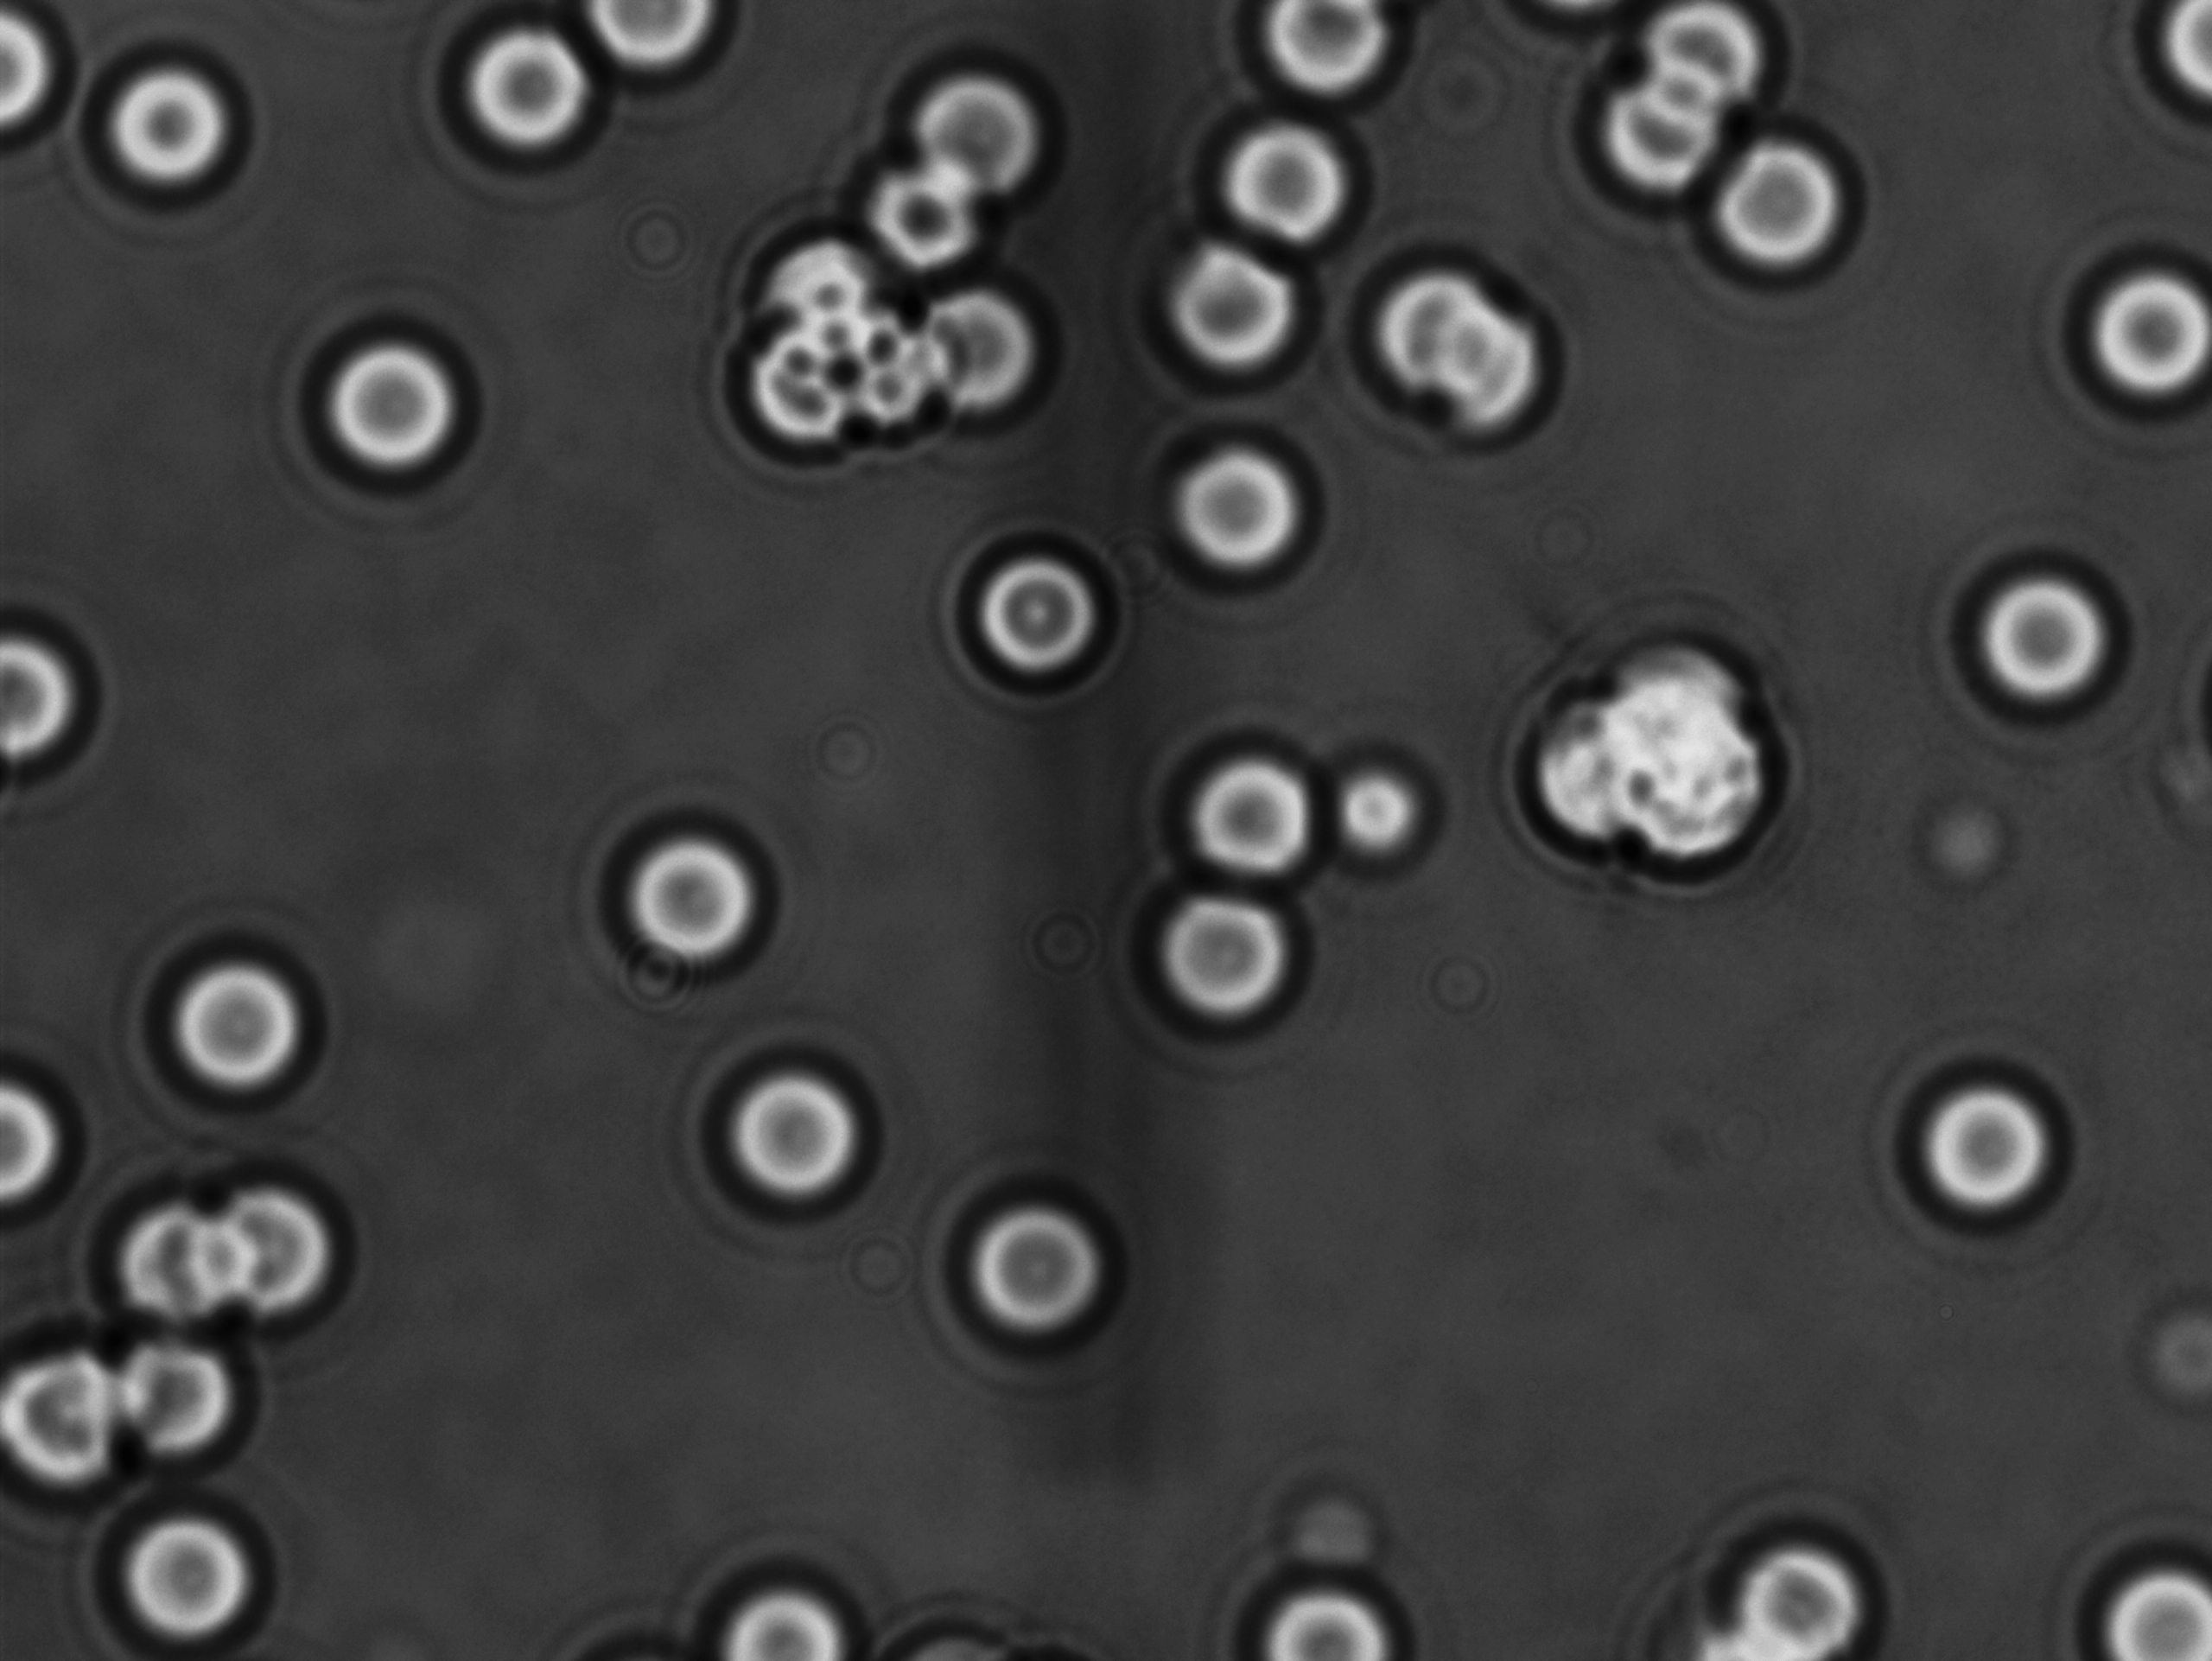depth:60: (577, 785, 801, 984), (684, 1022, 886, 1241), (1867, 1047, 2079, 1251), (286, 304, 492, 502), (937, 1164, 1143, 1361), (1150, 426, 1359, 604), (133, 925, 319, 1122), (1943, 536, 2125, 733), (1680, 117, 1867, 298), (932, 525, 1123, 701), (415, 24, 609, 197), (1169, 712, 1345, 897), (1118, 867, 1308, 1038), (92, 1488, 274, 1661), (79, 56, 265, 223), (1139, 223, 1308, 400), (2050, 237, 2212, 415), (1179, 105, 1359, 263), (2074, 1542, 2212, 1661)
